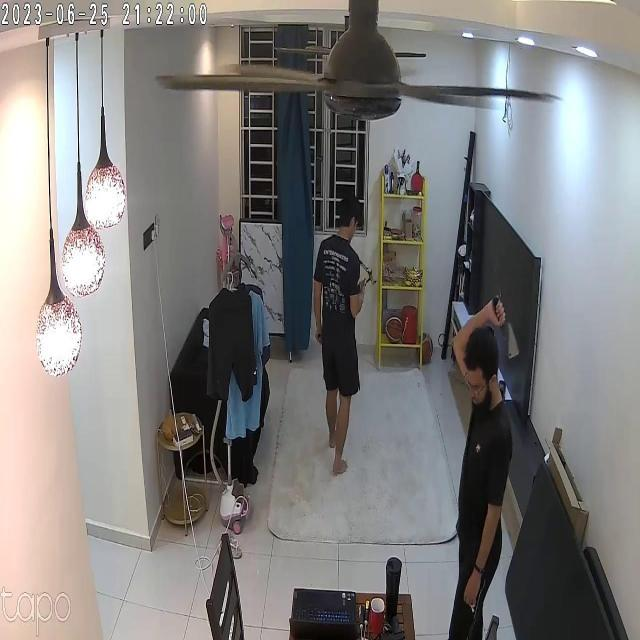Knife: (488, 296, 537, 366)
